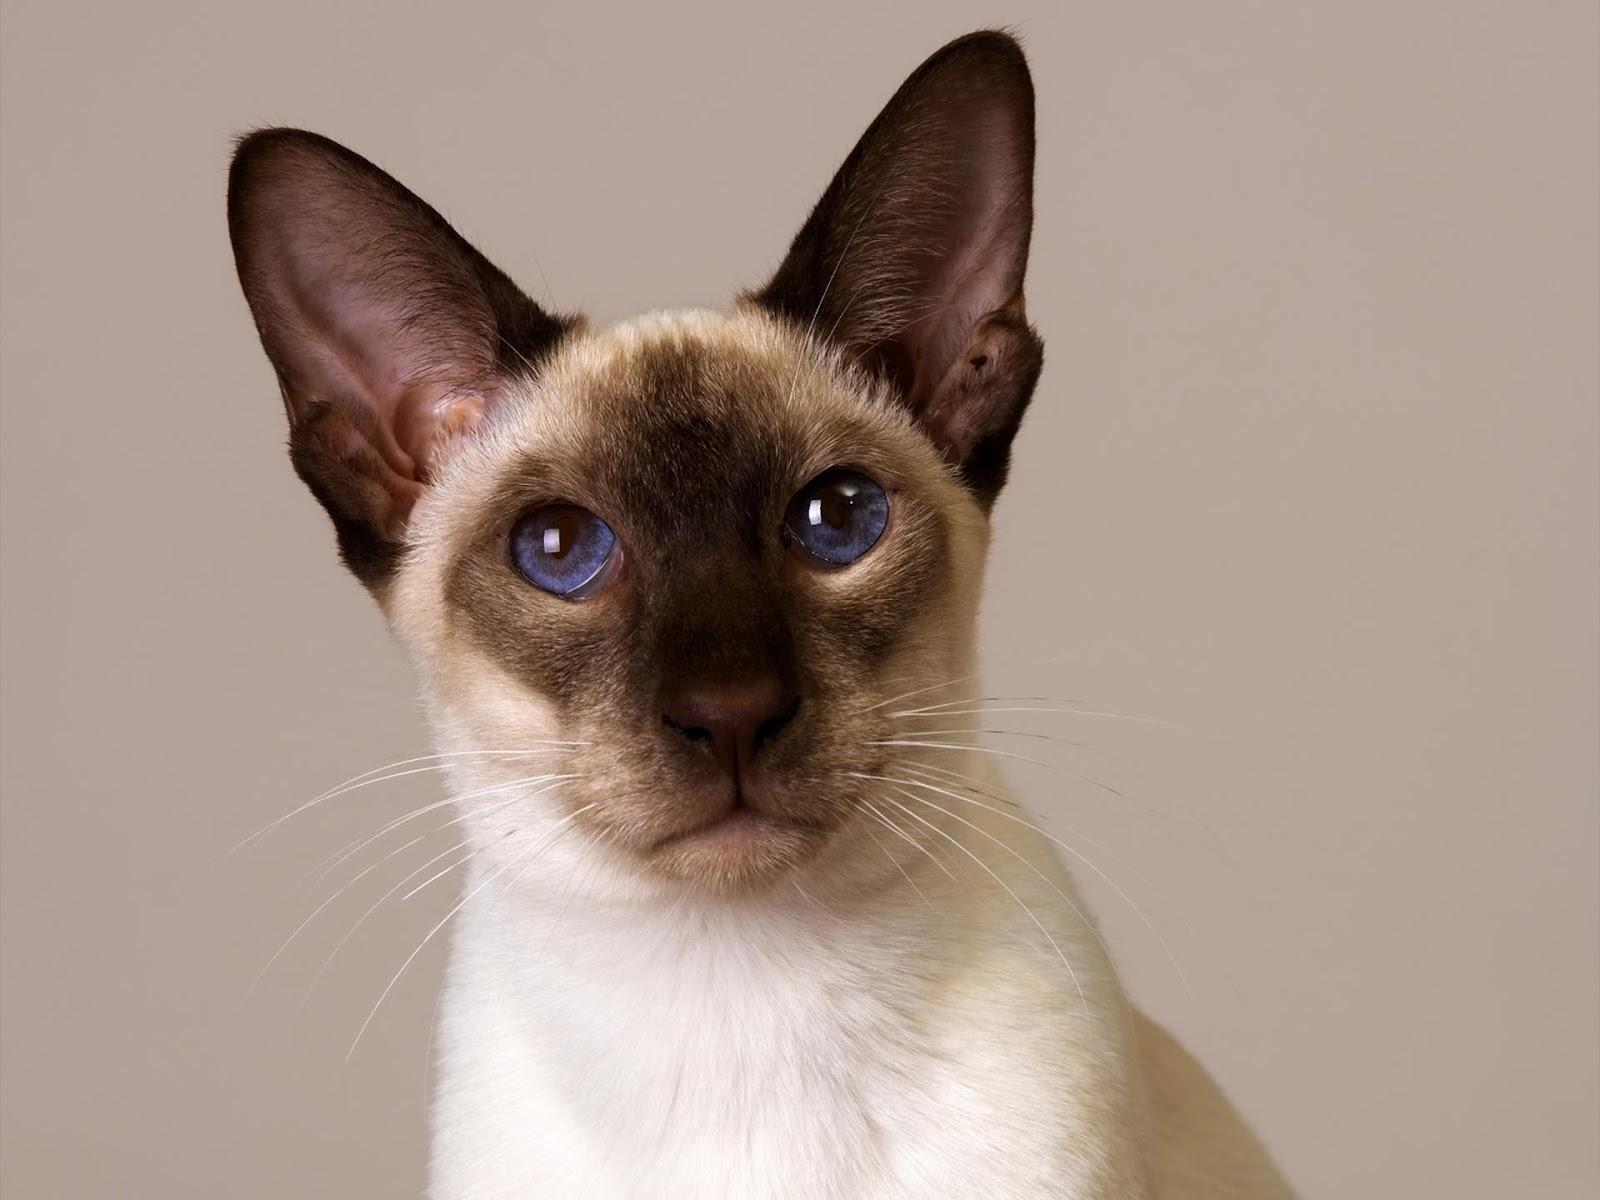siamese: (219, 14, 1083, 934)
